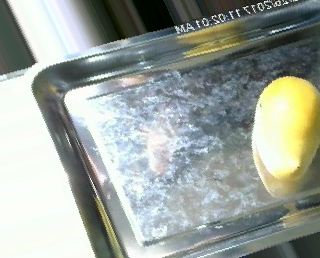Mango: (249, 75, 320, 179)
